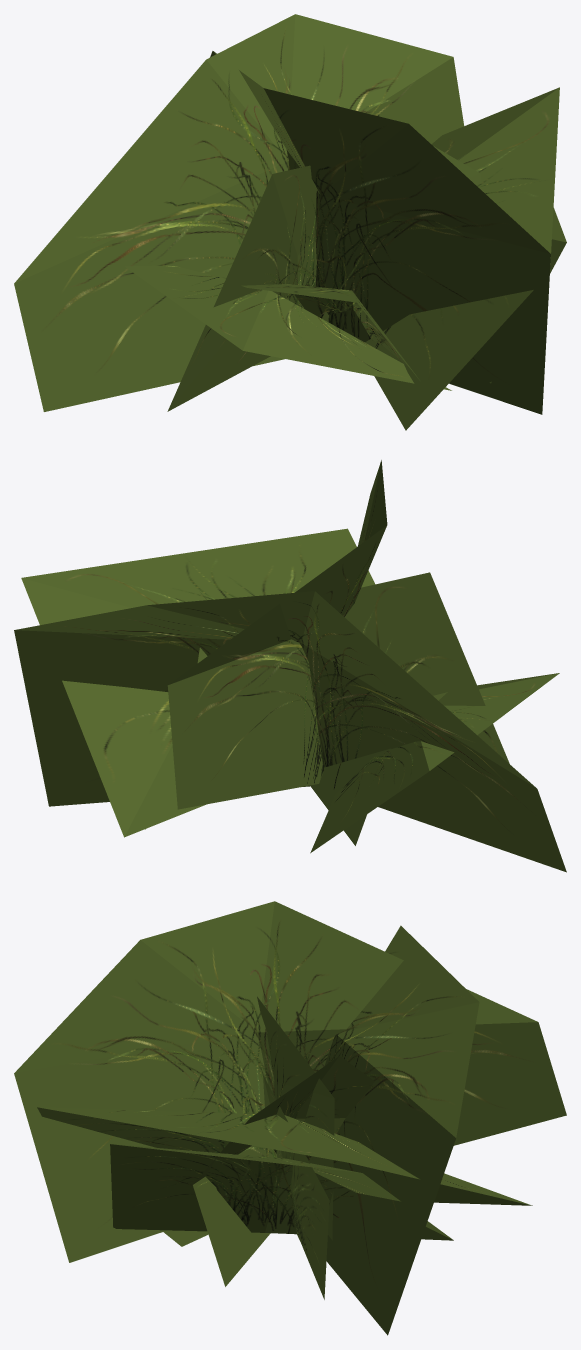
Rendered from LE_DenseGrass01.fbx.
The picture shows the model from 3 angles, top to bottom: view 1: azimuth 30°, elevation 25°; view 2: azimuth 150°, elevation 25°; view 3: azimuth 270°, elevation 25°; orthographic projection. The views are drawn at different scales.
Visible parts, largest first — view 1: denseGrass; view 2: denseGrass; view 3: denseGrass.
Part boxes in pixels (x1,y1,x2,y2): denseGrass: [14, 14, 566, 430]; denseGrass: [14, 460, 566, 872]; denseGrass: [14, 901, 566, 1335].
Bounding box in the file's own units: 3.31 × 1.84 × 3.07.
